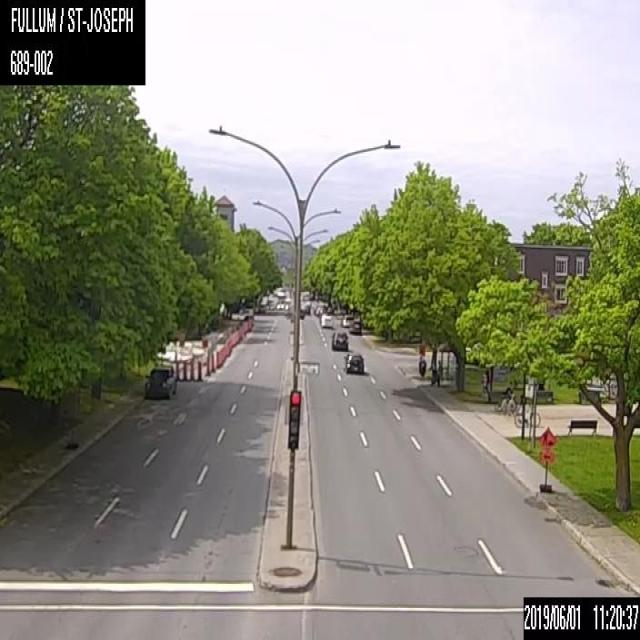construction: (538, 423, 556, 492), (195, 360, 202, 380), (181, 360, 188, 380), (188, 361, 194, 380), (174, 360, 179, 380), (204, 358, 210, 374), (210, 354, 215, 372), (216, 351, 219, 367), (202, 338, 206, 346)
pedestrian: (428, 358, 436, 384), (436, 360, 443, 385)
vehicle: (143, 364, 176, 399), (342, 352, 363, 375), (331, 330, 348, 350), (342, 313, 354, 327), (320, 314, 332, 327)
